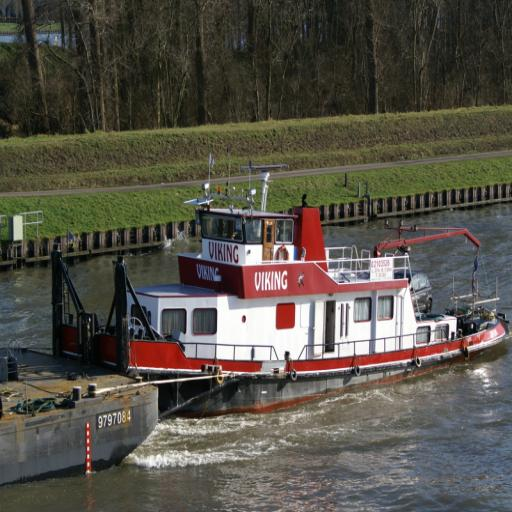tugboat: (46, 158, 512, 427)
